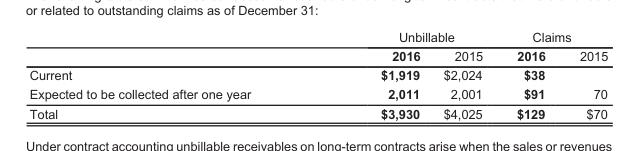table: (28, 29, 607, 120)
table column: (28, 29, 315, 120), (315, 29, 431, 120), (431, 29, 499, 120), (499, 29, 561, 120), (561, 29, 607, 120)
table column header: (28, 29, 607, 64)
table row: (28, 64, 607, 84), (28, 84, 607, 103), (28, 46, 607, 64), (28, 29, 607, 46), (28, 103, 607, 120)
table spanning cell: (315, 29, 499, 46), (499, 29, 607, 46)
